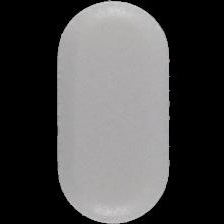55154-5031: (0, 0, 224, 224)
